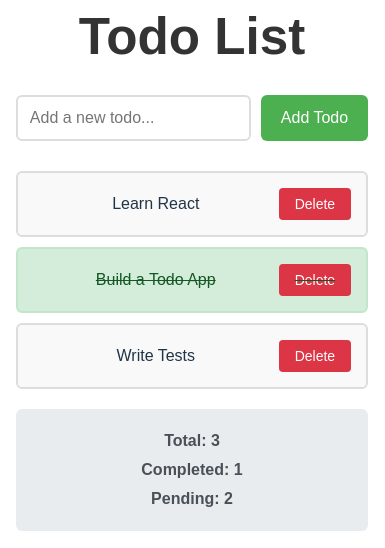
TodoList Component › deletes a todo
This screenshot has width=385, height=548.
Click the button with test id "delete-button-1": x=315, y=204 [279,188,351,220]
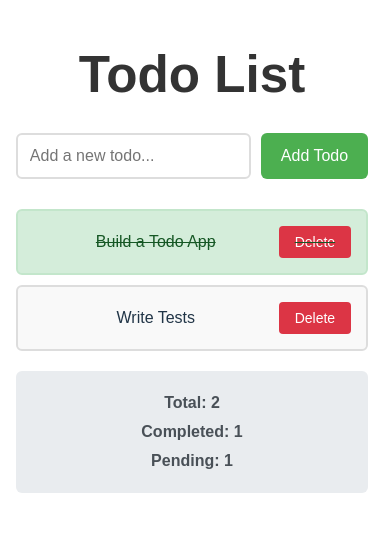
Result: the text "Learn React" is gone
